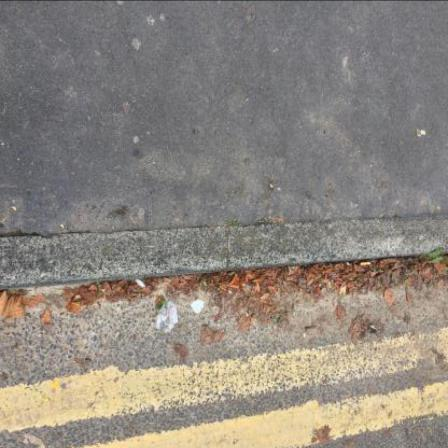Cigarette: (361, 263, 371, 266)
Plastic bag - wrapper: (157, 302, 179, 335)
Unlabeled litter: (191, 300, 205, 313)
